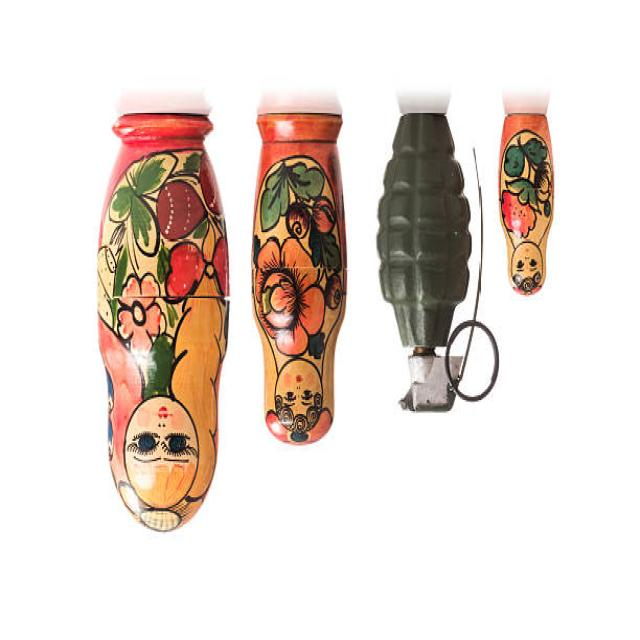grenade: (373, 99, 503, 423)
